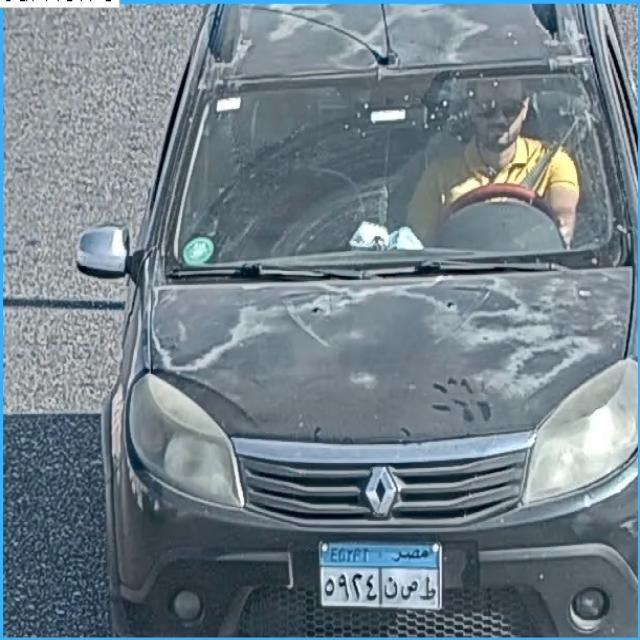windshield: (166, 69, 632, 262)
